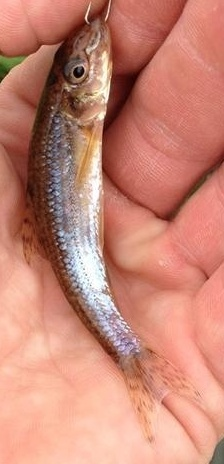Gobio gobio: (20, 20, 204, 444)
